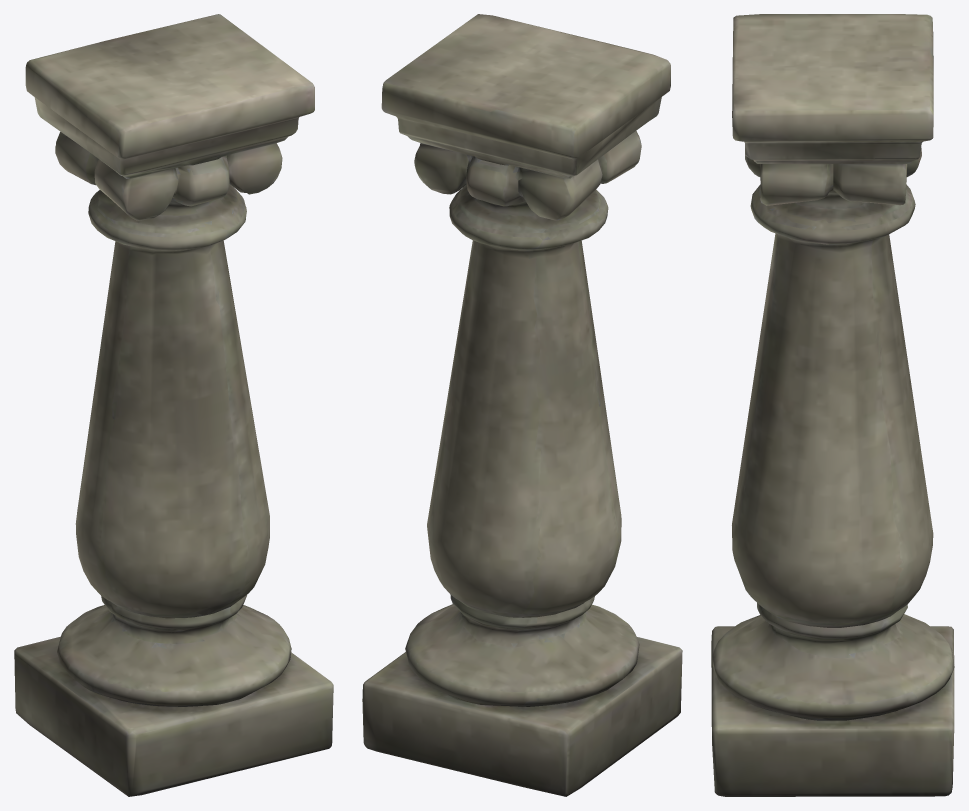
File: plain-limestone-balustrade-v001.glb
3 views of the same model, side by side, from view 1: azimuth 30°, elevation 25°; view 2: azimuth 150°, elevation 25°; view 3: azimuth 270°, elevation 25° (orthographic). The views are drawn at different scales.
Parts seen in each view (by area): view 1: plain-limestone-balustrade; view 2: plain-limestone-balustrade; view 3: plain-limestone-balustrade.
Boxes of the visible parts, bbox=[...] form: plain-limestone-balustrade: bbox=[14, 14, 333, 796]; plain-limestone-balustrade: bbox=[362, 14, 682, 796]; plain-limestone-balustrade: bbox=[711, 14, 954, 796].
Size of the model in its own units: 0.3293 by 1.01 by 0.3245.
1 material, 1 textured.
